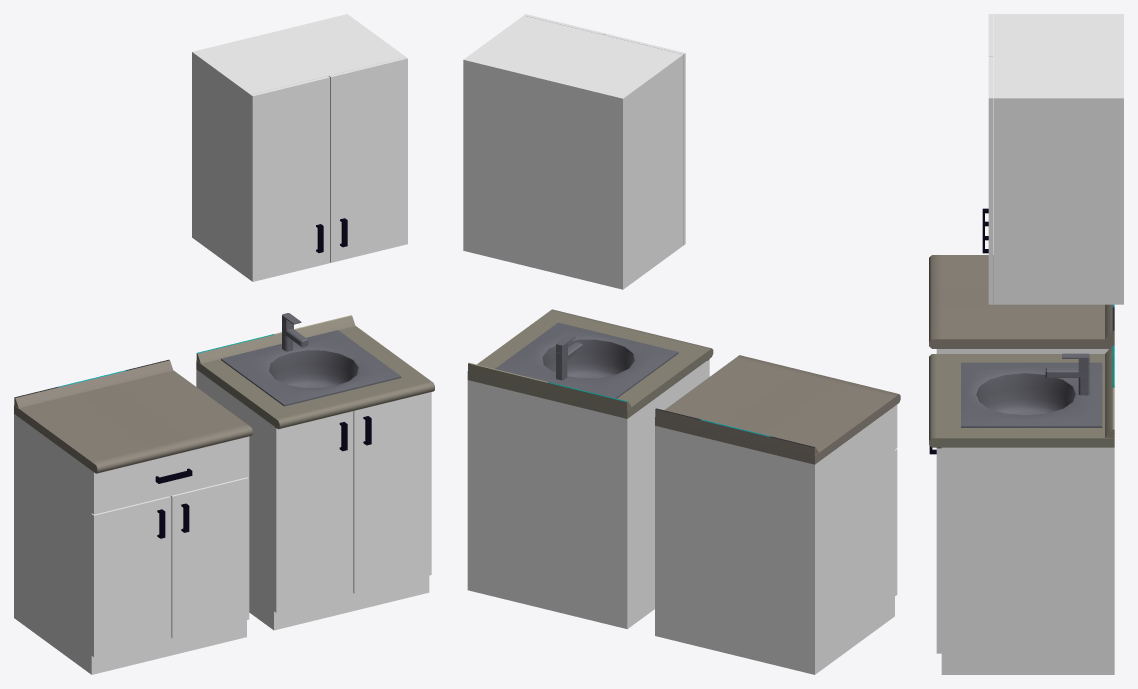
File: KitchenCupboards.fbx
3 renders of one model, left to right at view 1: azimuth 30°, elevation 25°; view 2: azimuth 150°, elevation 25°; view 3: azimuth 270°, elevation 25°, orthographic. The views are drawn at different scales.
Visible parts, largest first — view 1: KitchenCupboard, KitchenCupboard_with_sink, Hinged_KitchenCupboard; view 2: KitchenCupboard, KitchenCupboard_with_sink, Hinged_KitchenCupboard; view 3: KitchenCupboard_with_sink, Hinged_KitchenCupboard, KitchenCupboard.
Boxes of the visible parts, x1,y1,x2,y2 form: KitchenCupboard: (14, 359, 252, 674); KitchenCupboard_with_sink: (196, 313, 434, 630); Hinged_KitchenCupboard: (192, 14, 407, 281); KitchenCupboard: (655, 355, 900, 674); KitchenCupboard_with_sink: (467, 309, 713, 629); Hinged_KitchenCupboard: (463, 14, 685, 289); KitchenCupboard_with_sink: (929, 345, 1114, 674); Hinged_KitchenCupboard: (982, 14, 1123, 304); KitchenCupboard: (929, 255, 1114, 353).
Bounding box in the file's own units: 308 × 452 × 138.
1 material, 1 textured.
